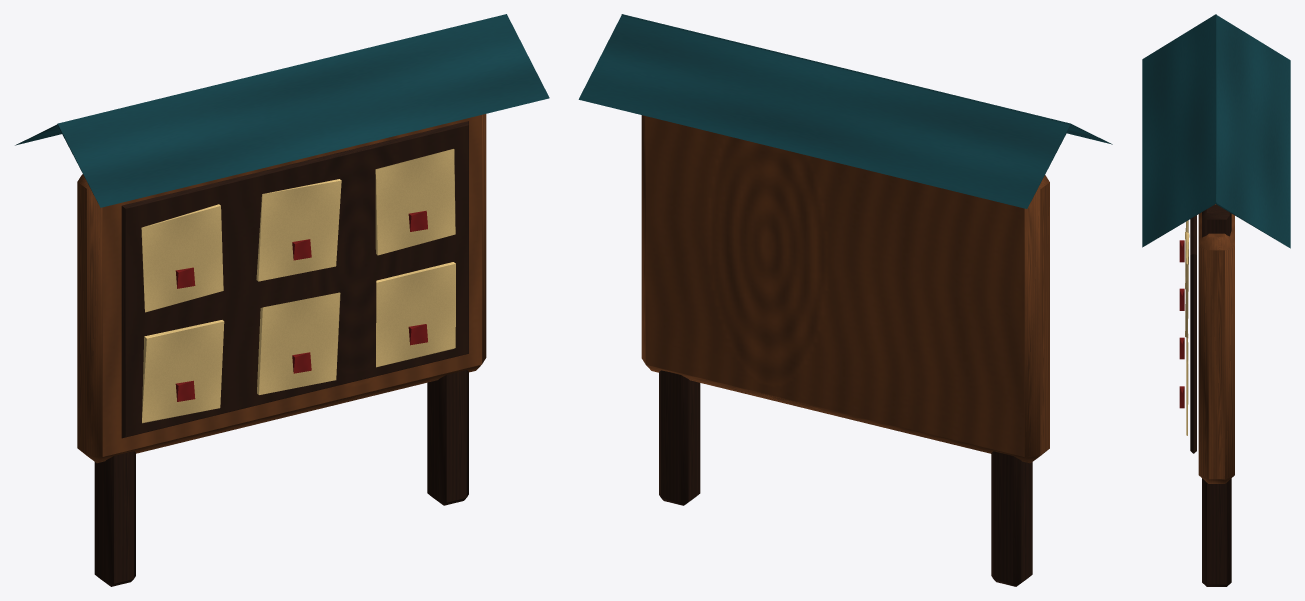
Rendered from Quadro_de_avisos_LOD1.fbx.
3 renders of one model, left to right at view 1: azimuth 30°, elevation 25°; view 2: azimuth 150°, elevation 25°; view 3: azimuth 270°, elevation 25°, orthographic. The views are drawn at different scales.
Parts seen in each view (by area): view 1: Quadro_de_avisos_LOD1; view 2: Quadro_de_avisos_LOD1; view 3: Quadro_de_avisos_LOD1.
Boxes of the visible parts, left/top/right/bottom form: Quadro_de_avisos_LOD1: left=15, top=14, right=549, bottom=586; Quadro_de_avisos_LOD1: left=578, top=14, right=1112, bottom=586; Quadro_de_avisos_LOD1: left=1142, top=14, right=1290, bottom=586.
Size of the model in its own units: 270 by 271 by 90.
Materials: 1 (1 with a texture image).
